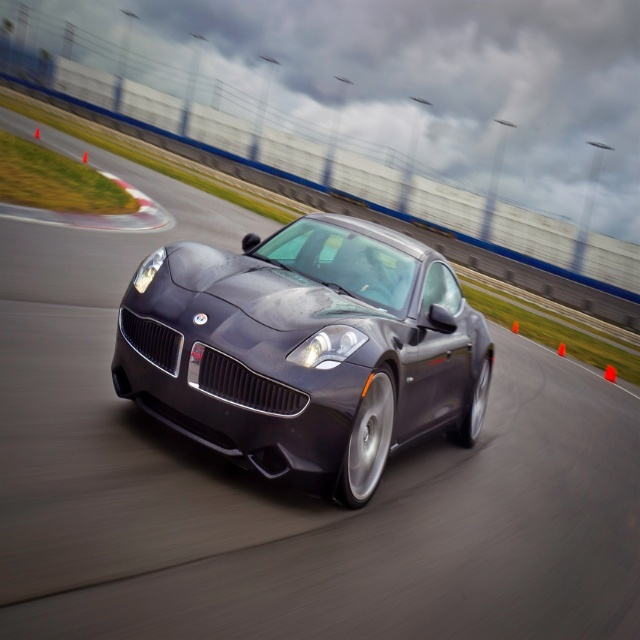Car: (110, 213, 495, 510)
